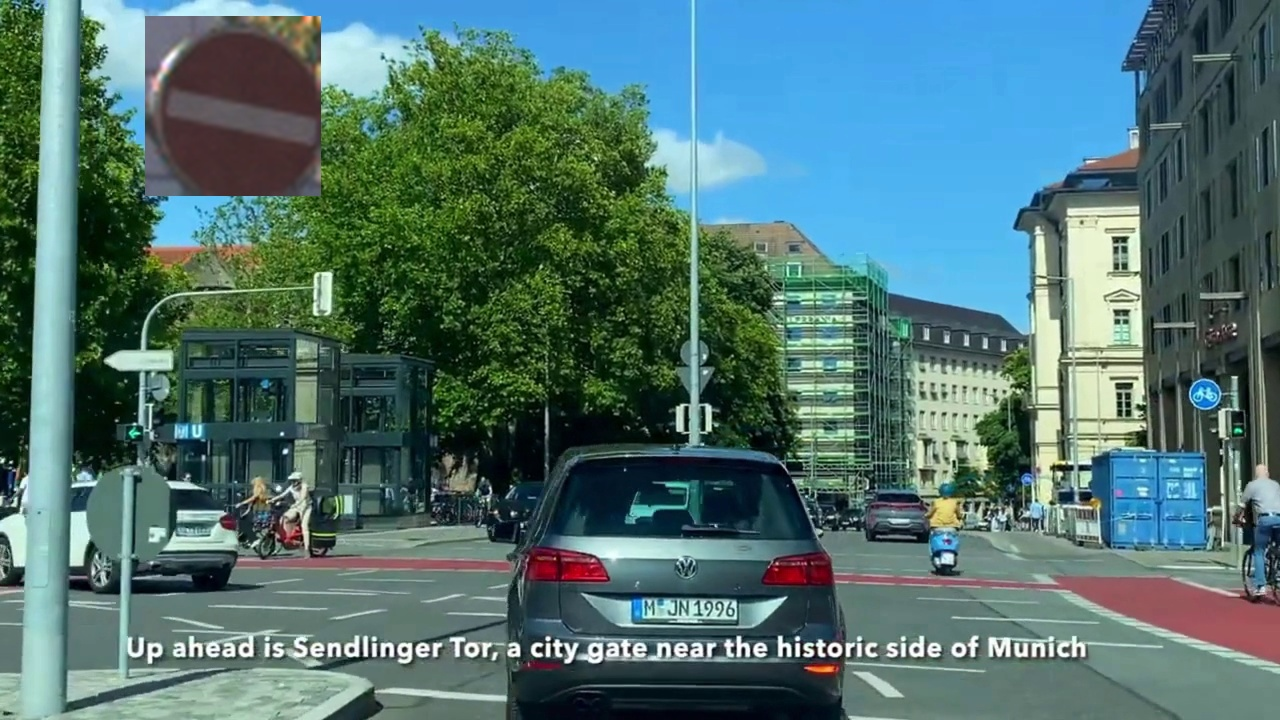No entry: (145, 16, 321, 196)
